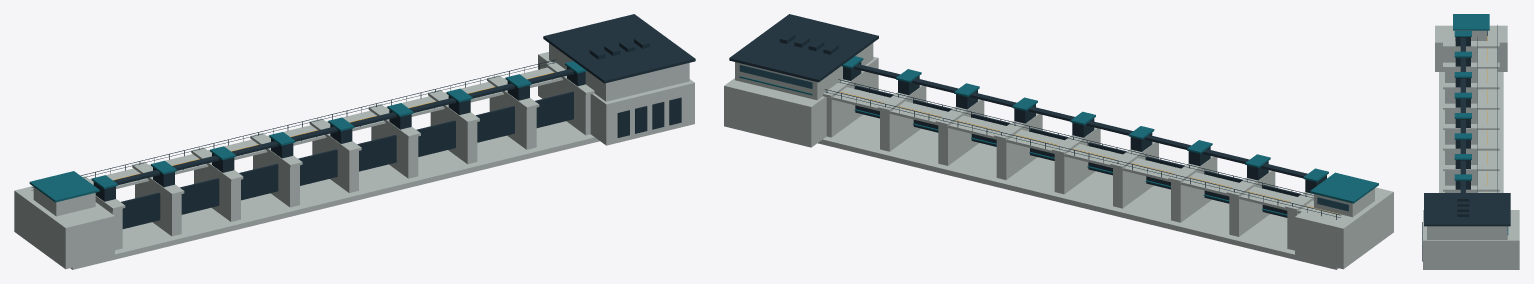
Rendered from ModernWeir.fbx.
The picture shows the model from 3 angles, left to right: view 1: azimuth 30°, elevation 25°; view 2: azimuth 150°, elevation 25°; view 3: azimuth 270°, elevation 25°; orthographic projection. The views are drawn at different scales.
Visible parts, largest first — view 1: Foundation, PowerhouseRoof, Abutment, PowerhouseBase, ServiceDeck, Powerhouse, CabinRoof, Pier_5, Pier_7, Pier_6, Pier_2, Pier_3 (+22 smaller); view 2: Foundation, ServiceDeck, PowerhouseRoof, PowerhouseBase, Abutment, Powerhouse, Pier_4, Pier_2, Pier_5, Pier_1, Pier_7, Pier_6 (+13 smaller); view 3: PowerhouseBase, PowerhouseRoof, ServiceDeck, Foundation, Abutment, Powerhouse, CabinRoof, PierCap_0, PierCap_1, PierCap_2, PierCap_3, PierCap_5 (+41 smaller).
Boxes of the visible parts, bbox=[...] form: Foundation: bbox=[70, 121, 599, 269]; PowerhouseRoof: bbox=[543, 14, 695, 83]; Abutment: bbox=[14, 186, 114, 269]; PowerhouseBase: bbox=[538, 52, 694, 145]; ServiceDeck: bbox=[32, 67, 562, 193]; Powerhouse: bbox=[549, 43, 689, 101]; CabinRoof: bbox=[29, 171, 99, 202]; Pier_5: bbox=[371, 122, 418, 178]; Pier_7: bbox=[489, 93, 536, 149]; Pier_6: bbox=[430, 108, 477, 164]; Pier_2: bbox=[194, 165, 240, 221]; Pier_3: bbox=[253, 151, 299, 207]; Foundation: bbox=[818, 114, 1338, 269]; ServiceDeck: bbox=[831, 87, 1347, 221]; PowerhouseRoof: bbox=[729, 14, 878, 82]; PowerhouseBase: bbox=[724, 56, 878, 147]; Abutment: bbox=[1295, 187, 1393, 269]; Powerhouse: bbox=[735, 43, 873, 100]; Pier_4: bbox=[1054, 129, 1100, 194]; Pier_2: bbox=[1171, 157, 1217, 222]; Pier_5: bbox=[996, 115, 1042, 179]; Pier_1: bbox=[1229, 171, 1275, 236]; Pier_7: bbox=[880, 86, 926, 151]; Pier_6: bbox=[938, 100, 984, 165]; PowerhouseBase: bbox=[1423, 210, 1519, 269]; PowerhouseRoof: bbox=[1424, 193, 1510, 226]; ServiceDeck: bbox=[1477, 29, 1497, 192]; Foundation: bbox=[1439, 72, 1503, 192]; Abutment: bbox=[1435, 25, 1507, 71]; Powerhouse: bbox=[1427, 226, 1507, 239]; CabinRoof: bbox=[1453, 14, 1489, 30]; PierCap_0: bbox=[1443, 42, 1499, 48]; PierCap_1: bbox=[1443, 62, 1499, 68]; PierCap_2: bbox=[1443, 83, 1499, 89]; PierCap_3: bbox=[1443, 103, 1499, 109]; PierCap_5: bbox=[1443, 144, 1499, 150].
Size of the model in its own units: 126 by 14.2 by 24.16.
